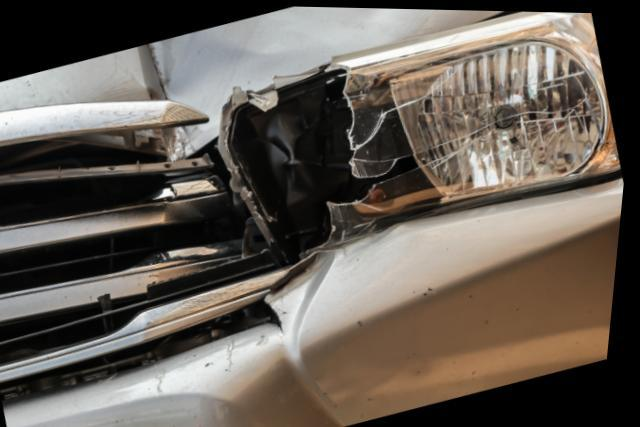crack: (270, 297, 290, 329)
dent: (84, 5, 397, 153)
lamp broken: (221, 9, 625, 248)
rub: (0, 5, 494, 165)
